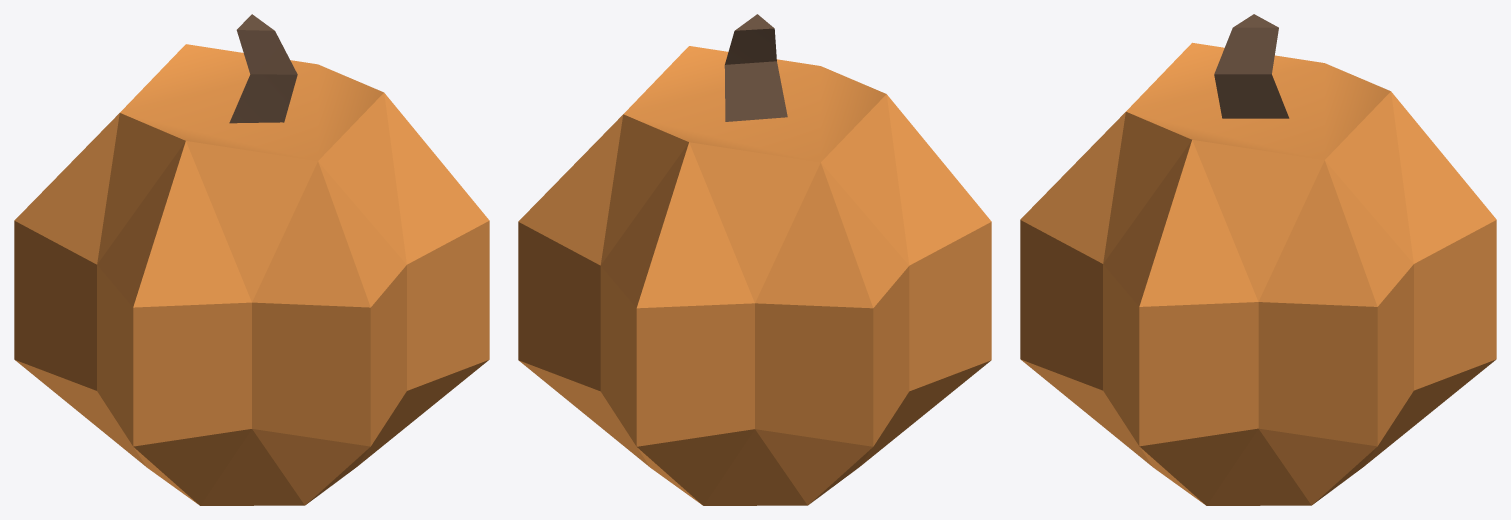
File: pumpkin.fbx
3 renders of one model, left to right at view 1: azimuth 30°, elevation 25°; view 2: azimuth 150°, elevation 25°; view 3: azimuth 270°, elevation 25°, orthographic.
Parts seen in each view (by area): view 1: pumpkin; view 2: pumpkin; view 3: pumpkin.
Part boxes in pixels (x1,y1,x2,y2): pumpkin: (14,14,489,505); pumpkin: (518,14,991,505); pumpkin: (1020,14,1496,505).
Bounding box in the file's own units: 115 × 137 × 133.
